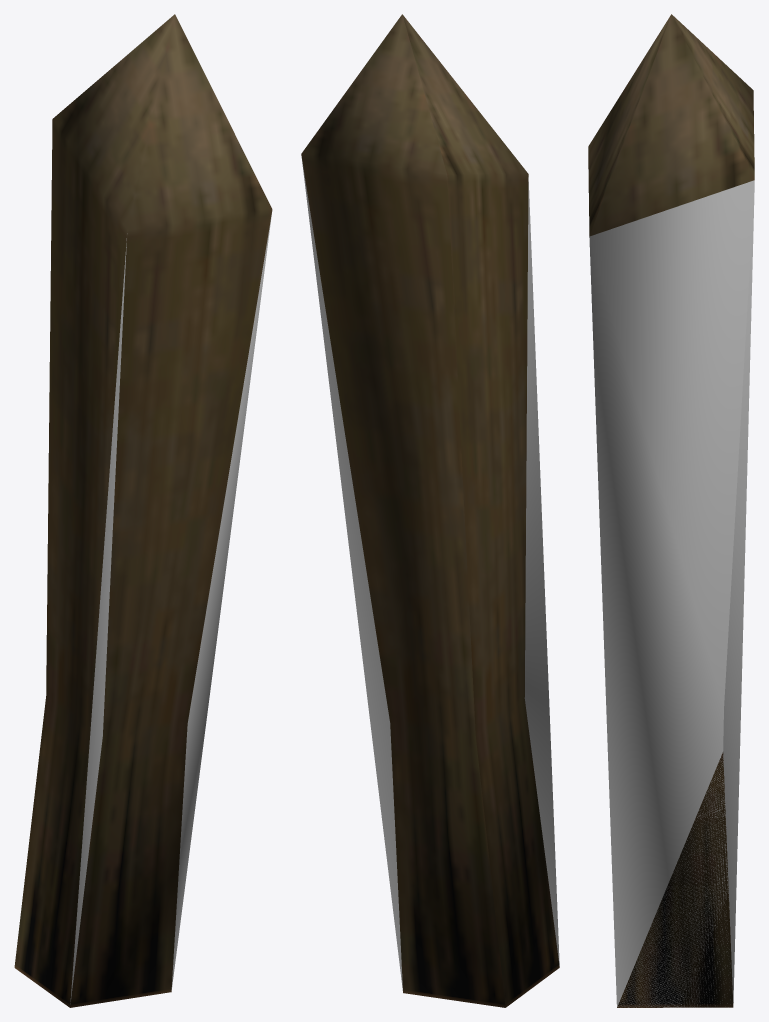
The model's file is stst146.dae.
3 renders of one model, left to right at view 1: azimuth 30°, elevation 25°; view 2: azimuth 150°, elevation 25°; view 3: azimuth 270°, elevation 25°, orthographic. The views are drawn at different scales.
Parts seen in each view (by area): view 1: point00, s2, s1; view 2: point00, s1; view 3: s1, s2, point00.
Part boxes in pixels (x1,y1,x2,y2): point00: [14, 14, 272, 1007]; s2: [171, 211, 272, 989]; s1: [70, 233, 127, 1004]; point00: [301, 14, 559, 1007]; s1: [301, 158, 559, 990]; s1: [589, 180, 754, 1007]; s2: [589, 237, 723, 1006]; point00: [588, 14, 754, 1007].
Size of the model in its own units: 0.18 by 0.1264 by 0.8445.
Materials: 2 (1 with a texture image).
